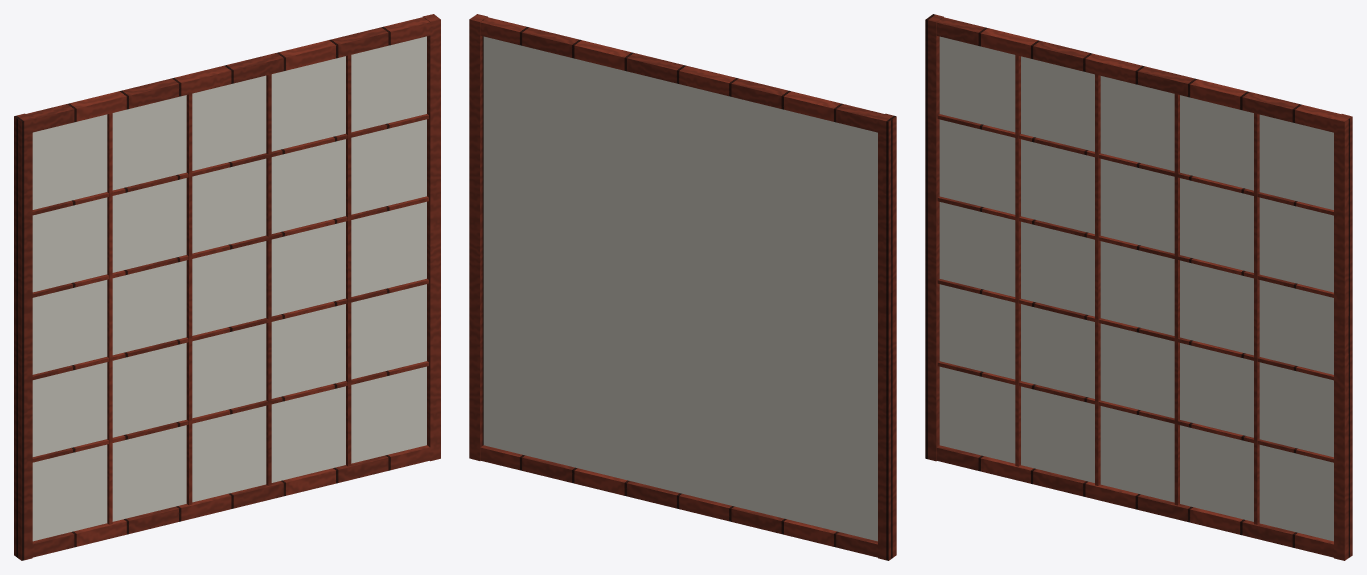
File: ShadowScreen.fbx
The picture shows the model from 3 angles, left to right: view 1: azimuth 30°, elevation 25°; view 2: azimuth 150°, elevation 25°; view 3: azimuth 330°, elevation 25°; orthographic projection.
Parts seen in each view (by area): view 1: ShadowScreen; view 2: ShadowScreen; view 3: ShadowScreen.
Part boxes in pixels (x1,y1,x2,y2): ShadowScreen: (14,14,440,560); ShadowScreen: (469,14,896,560); ShadowScreen: (925,14,1352,560).
Bounding box in the file's own units: 2 × 2 × 0.064.
Materials: 2 (1 with a texture image).
